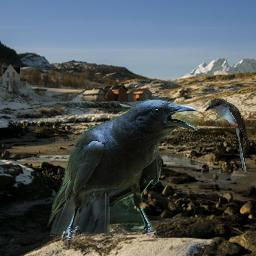Crow: (47, 99, 198, 250)
Cuckoo: (205, 98, 250, 172)
